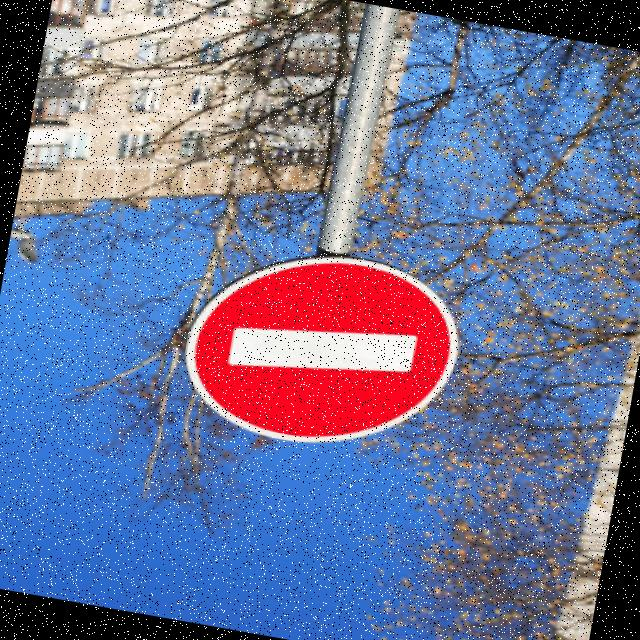do_not_enter: (159, 217, 504, 480)
